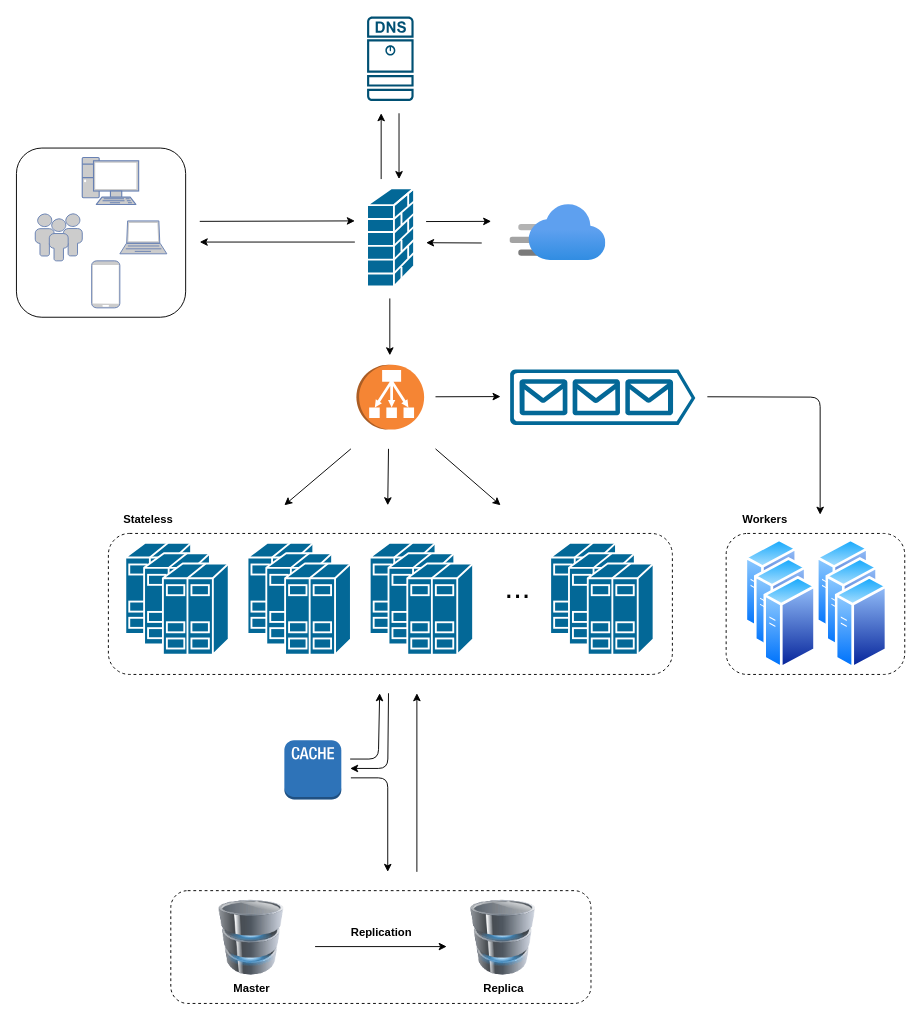
This 921x1020 diagram has some shape labels left out. The shapes that lost their labels are listed below. From the top down, each one's centre as x and y in pixels, then its label:
pixel 557 232: CDN
pixel 602 397: Message queue
